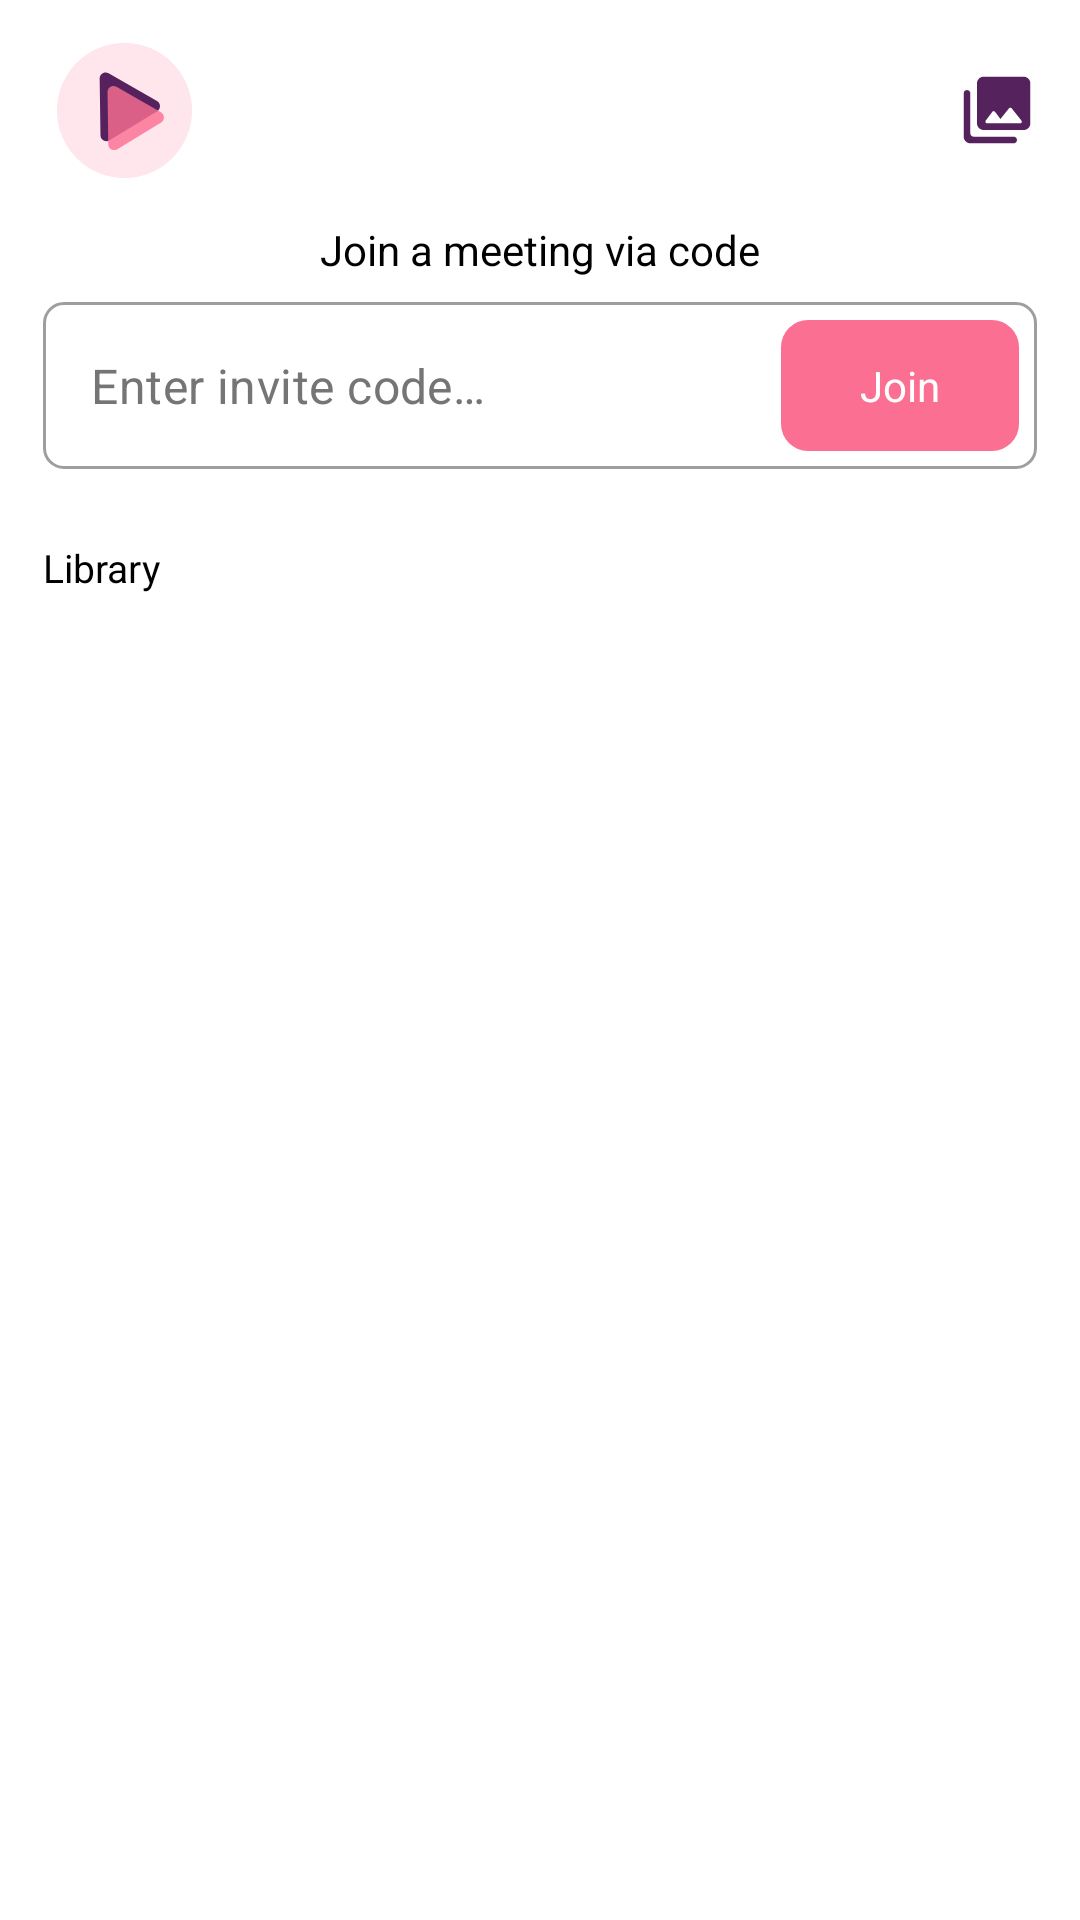

Icon click points for this 1080px x 1920px phone screenshot, format (x,y):
collections: (997,110)
